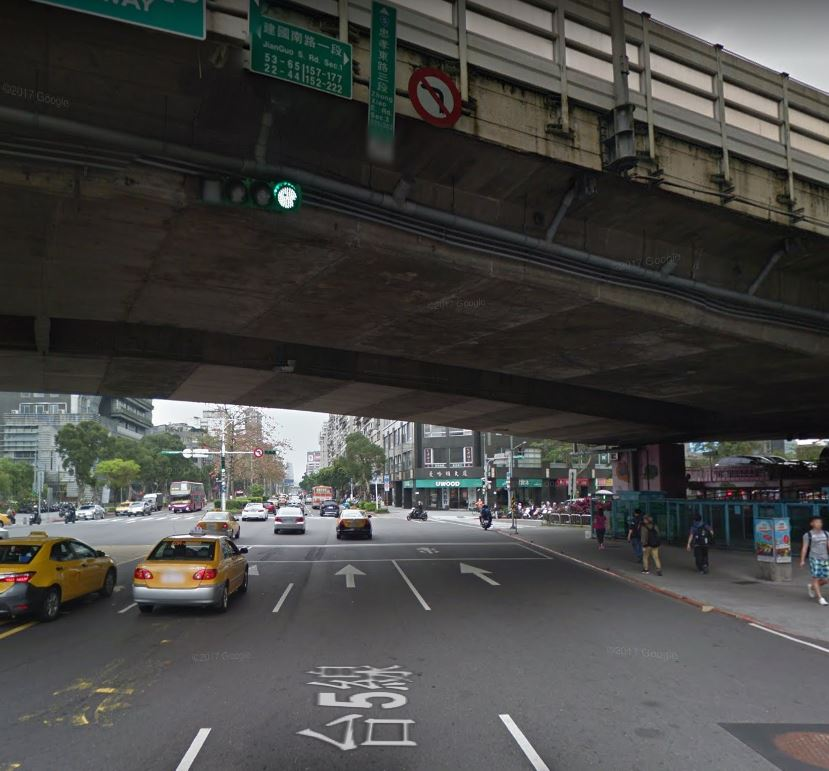No_left_turn: (407, 67, 464, 128)
Traffic_light_green: (196, 174, 302, 213)
